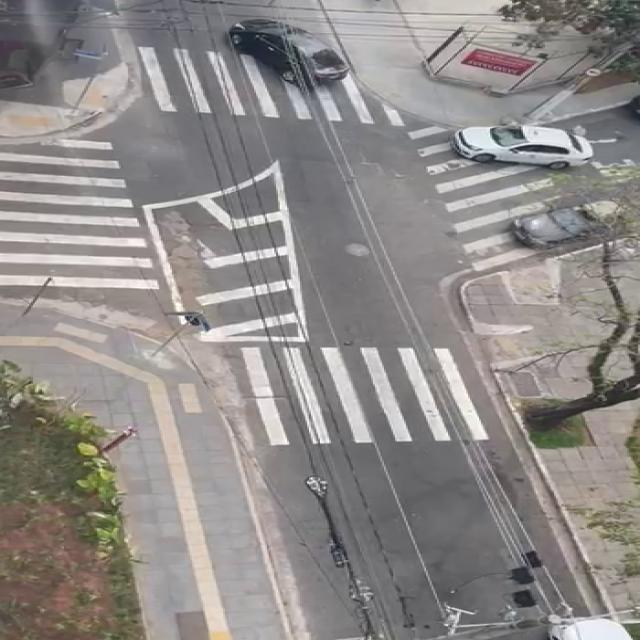car: (218, 16, 364, 89), (504, 193, 640, 250), (450, 120, 600, 168), (535, 613, 640, 640)
